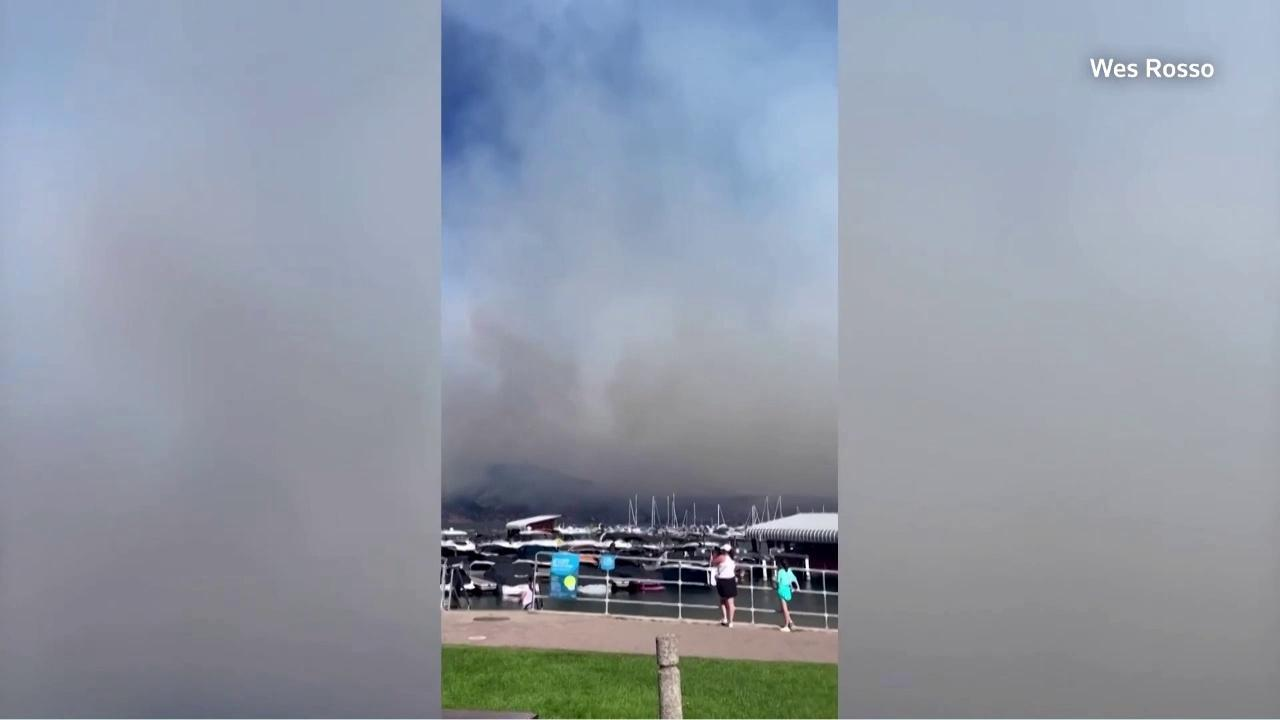smoke: (443, 0, 831, 526)
